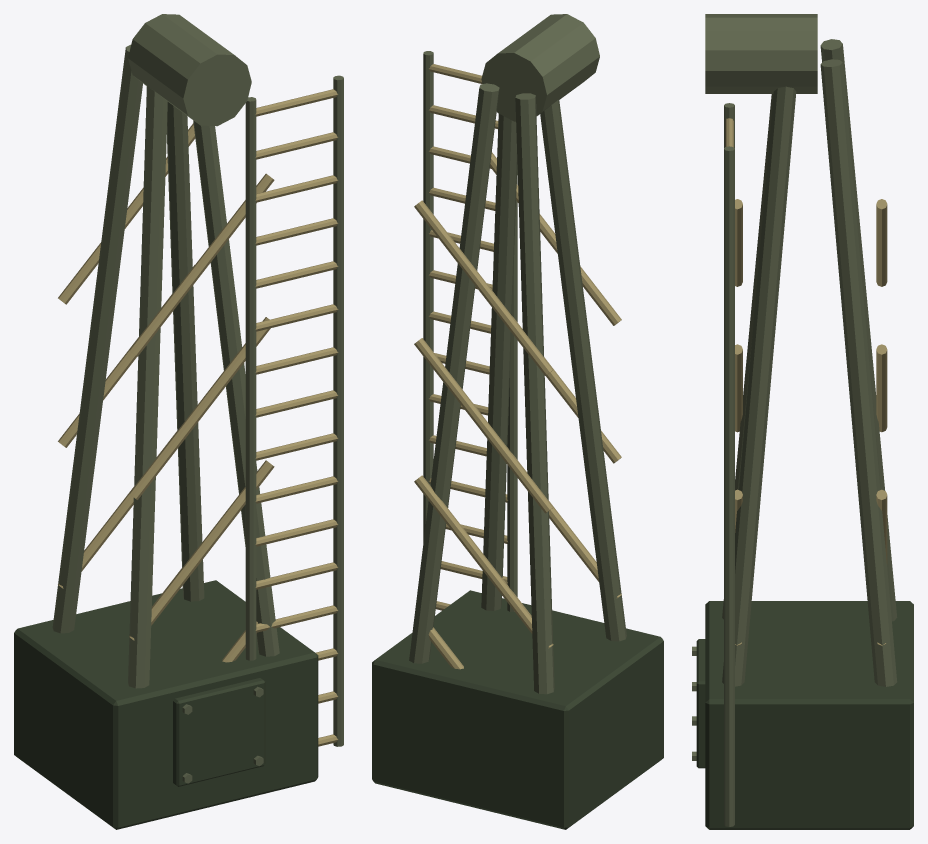
The model's file is windmill.obj.
3 views of the same model, side by side, from view 1: azimuth 30°, elevation 25°; view 2: azimuth 150°, elevation 25°; view 3: azimuth 270°, elevation 25° (orthographic). The views are drawn at different scales.
Parts seen in each view (by area): view 1: windmill; view 2: windmill; view 3: windmill.
Boxes of the visible parts, <box> form: windmill: <box>14,14,343,829</box>; windmill: <box>372,14,663,829</box>; windmill: <box>692,14,913,829</box>.
Size of the model in its own units: 1.75 by 5.26 by 1.38.
1 material, 1 textured.
